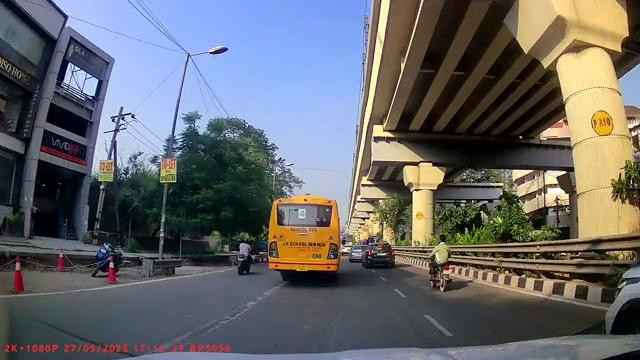motorcycle_without_helmet: (428, 233, 451, 293)
